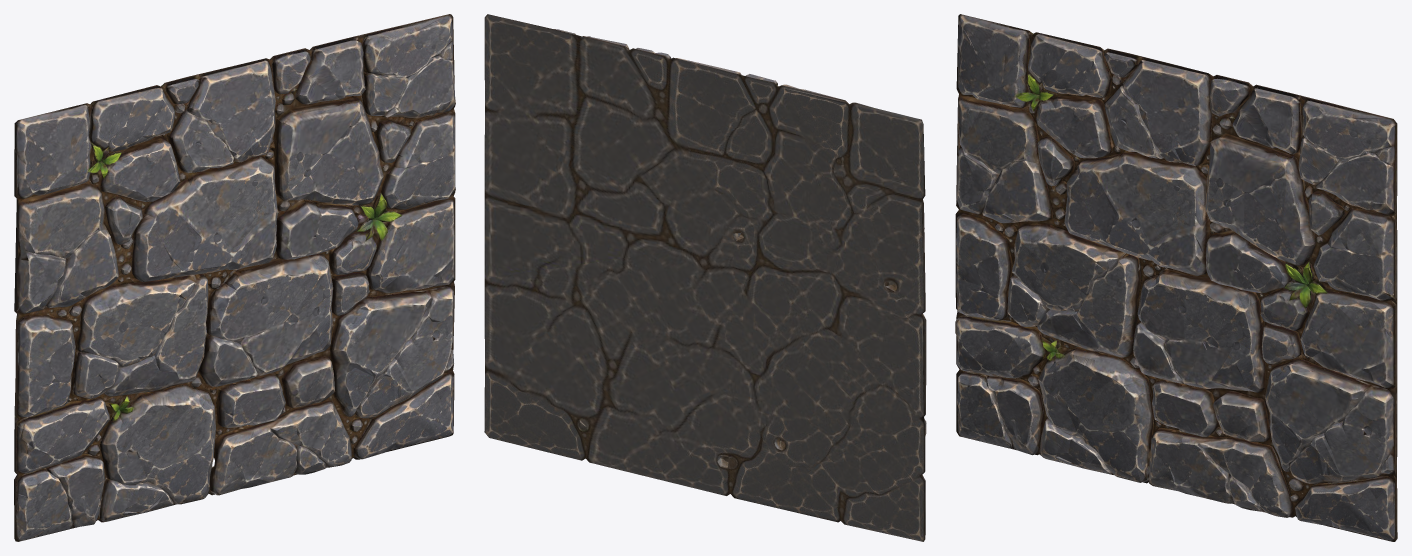
File: floor.glb
3 renders of one model, left to right at view 1: azimuth 30°, elevation 25°; view 2: azimuth 150°, elevation 25°; view 3: azimuth 330°, elevation 25°, orthographic.
Visible parts, largest first — view 1: output_unwrapped; view 2: output_unwrapped; view 3: output_unwrapped.
Part boxes in pixels (box(x1,y1,x2,y2)): output_unwrapped: box(14, 14, 455, 541); output_unwrapped: box(484, 14, 926, 541); output_unwrapped: box(955, 14, 1397, 541).
Size of the model in its own units: 1.9 by 1.75 by 0.1207.
Materials: 1 (1 with a texture image).
